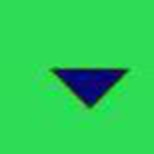ImgButton: (1, 1, 153, 153)
